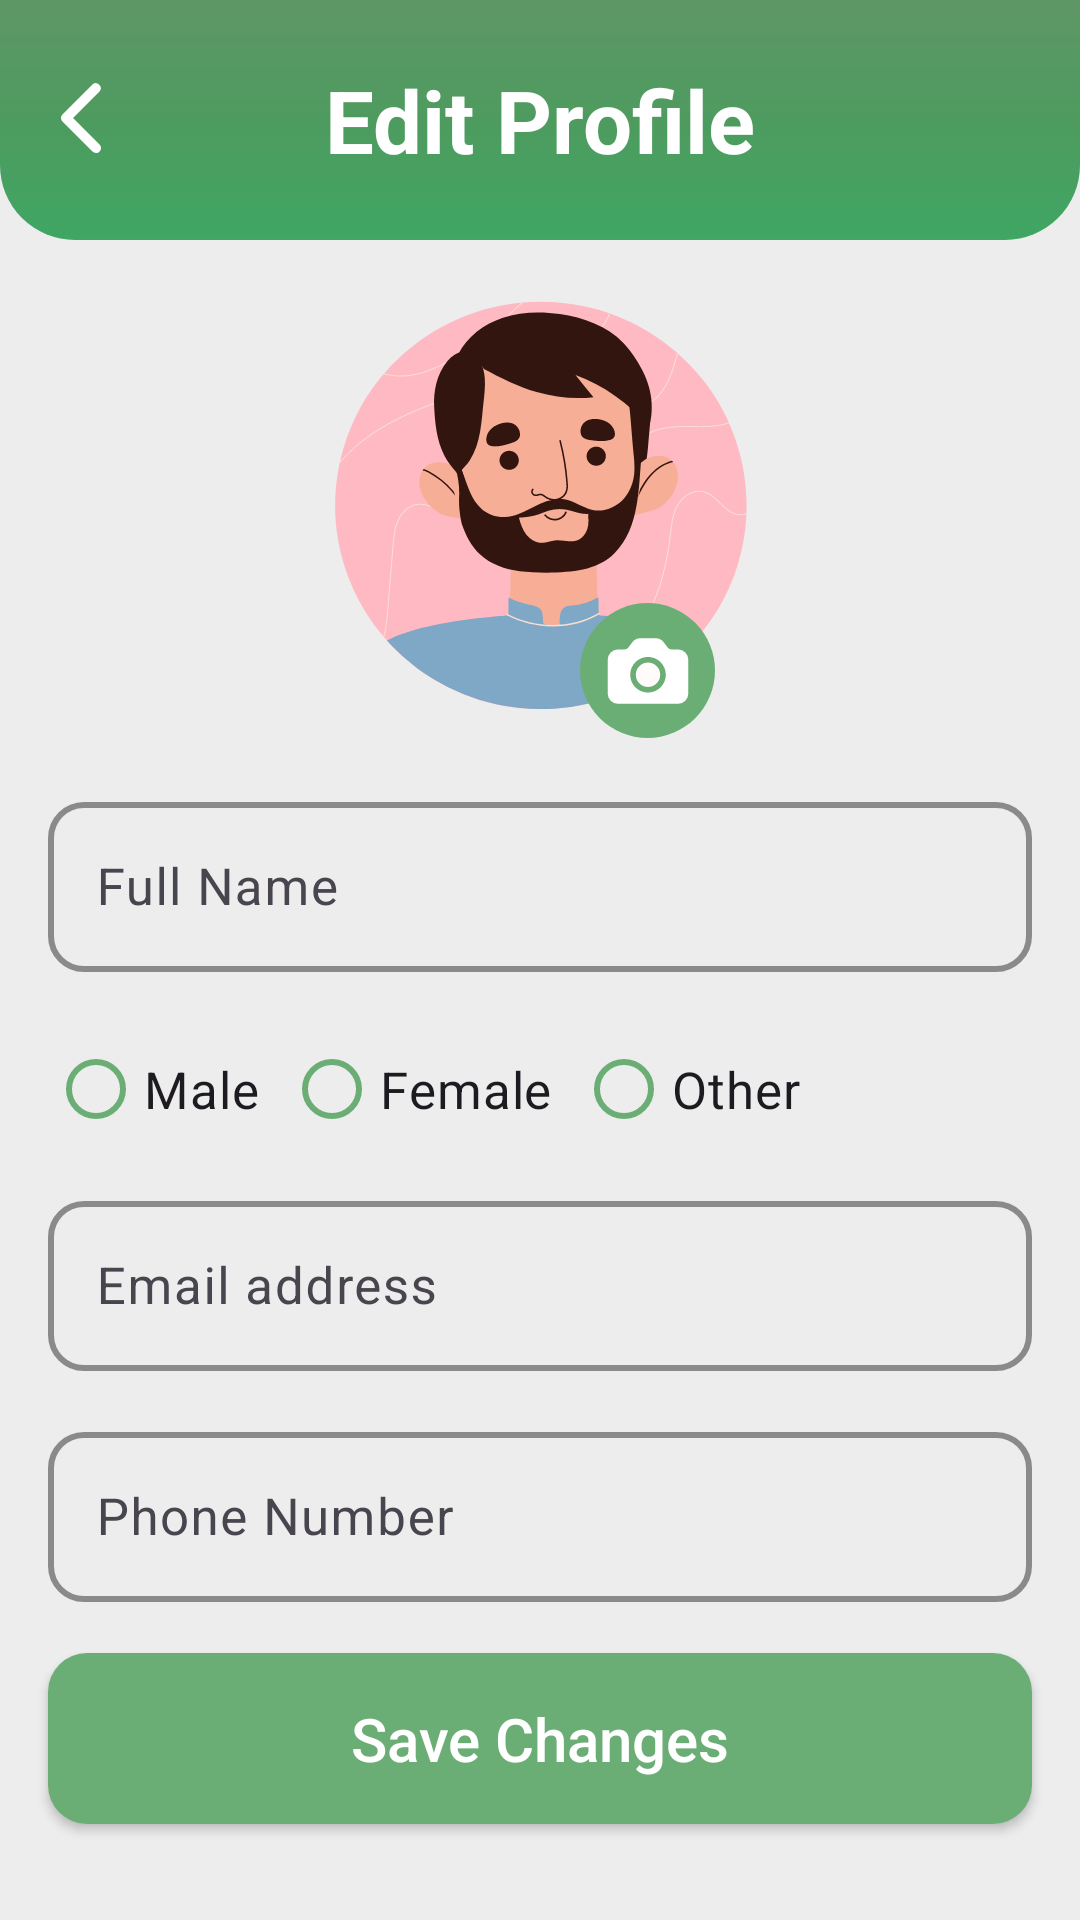

Icon click points for this 1080x1920 phone screenshot, format (x=x, y=y):
back: (x=81, y=118)
